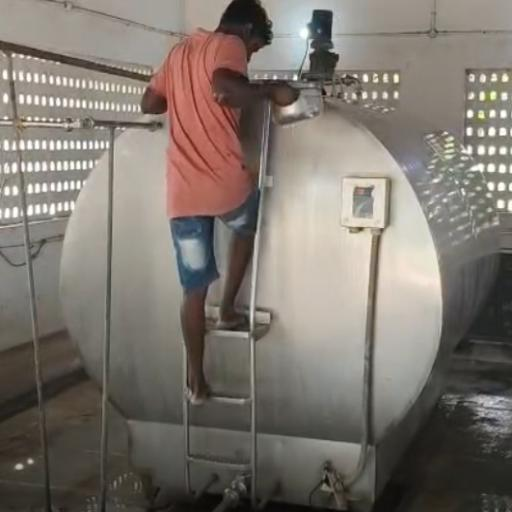silo: (58, 97, 504, 511)
vessel: (271, 86, 325, 127)
